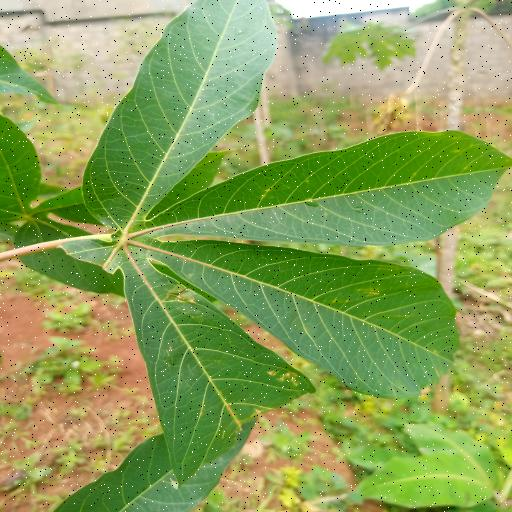Cassava_Healthy: (79, 0, 512, 491)
